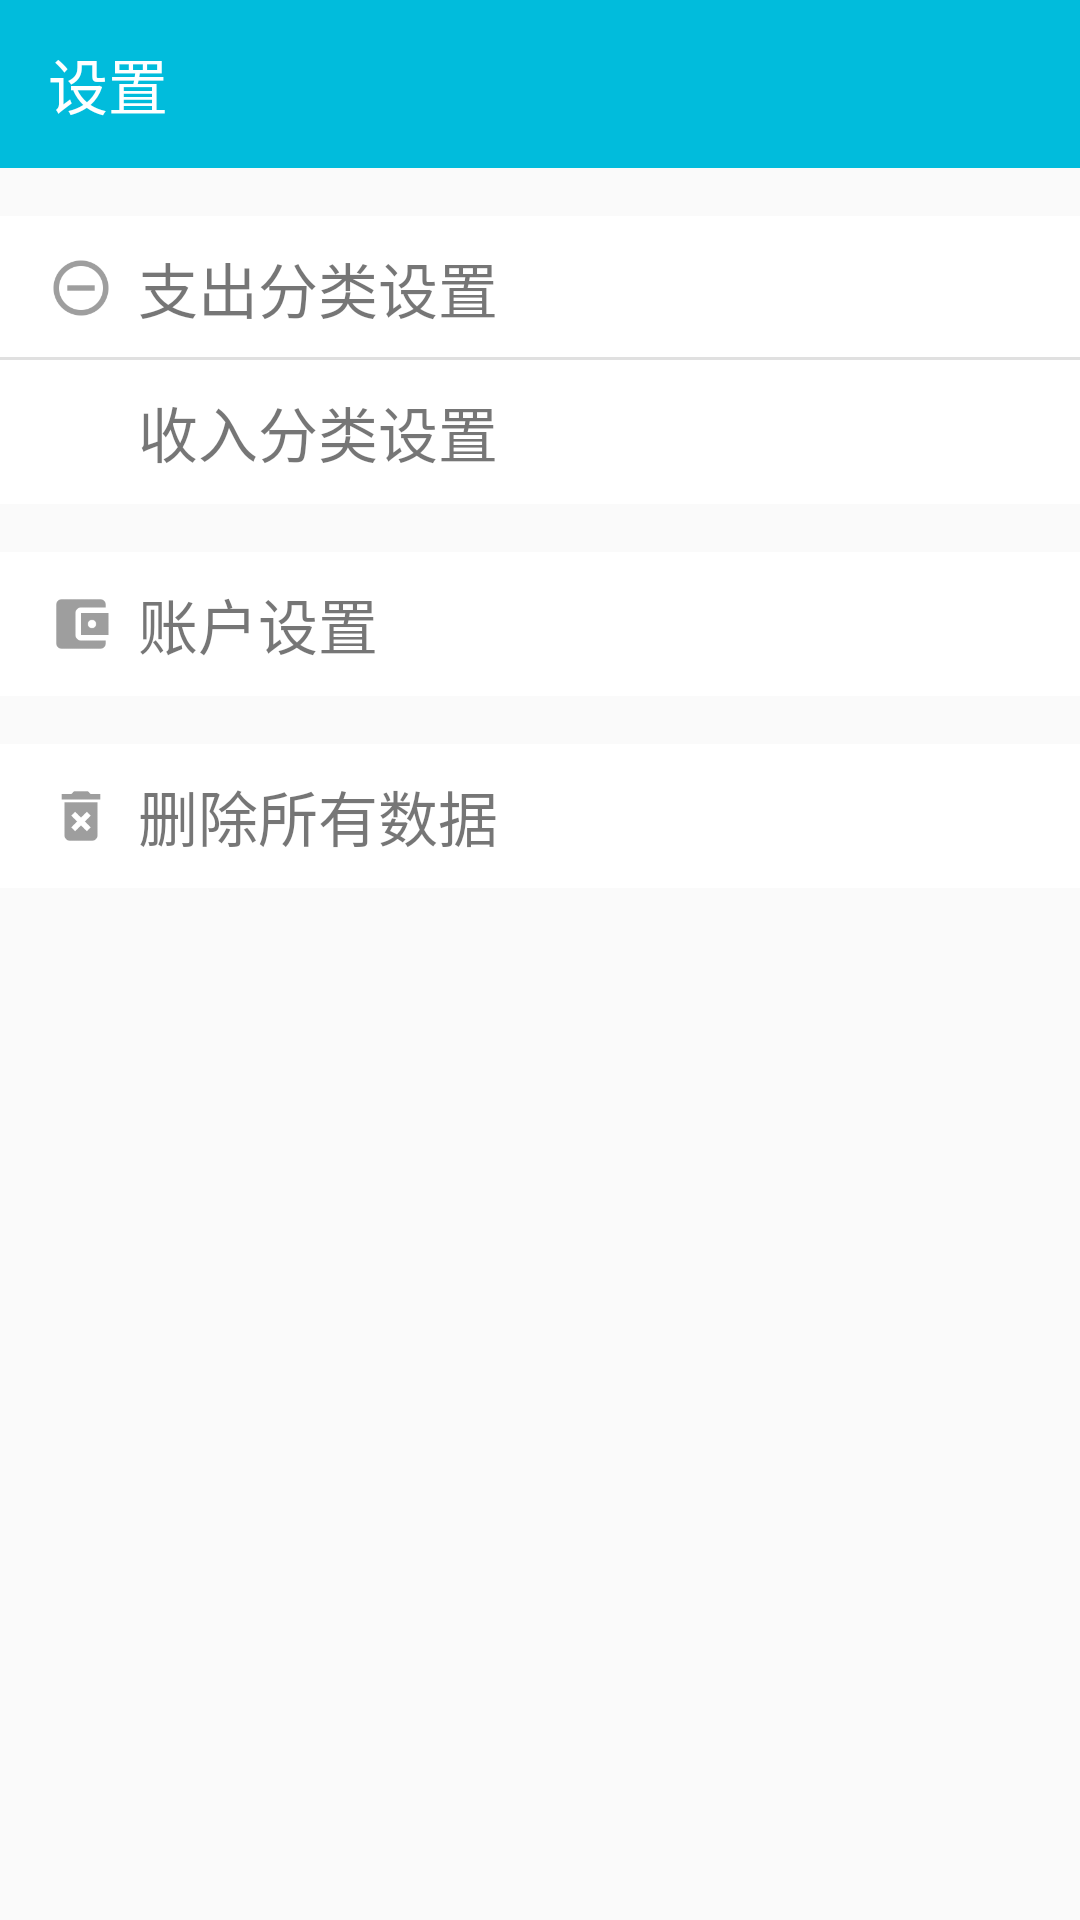

Point at icon controls on the screen. Image size 1080px×1920px, points as (x,y).
account balance wallet: (82,624)
delete forever: (81,816)
remove circle: (81,288)
